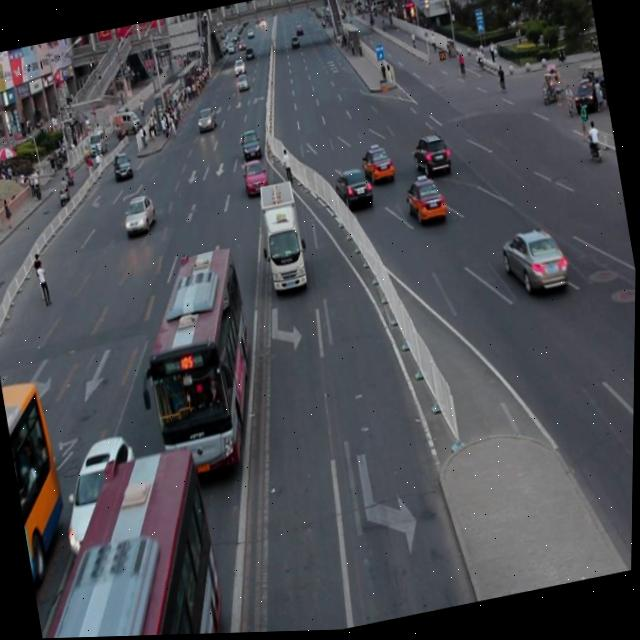bus: (251, 180, 313, 295)
car: (56, 434, 150, 558), (499, 227, 571, 304), (402, 176, 447, 226), (333, 168, 373, 212), (410, 135, 450, 179), (121, 194, 159, 237), (359, 144, 395, 187), (240, 160, 270, 198), (239, 129, 261, 160)
van: (16, 440, 234, 639), (122, 243, 271, 481), (0, 376, 81, 601)
